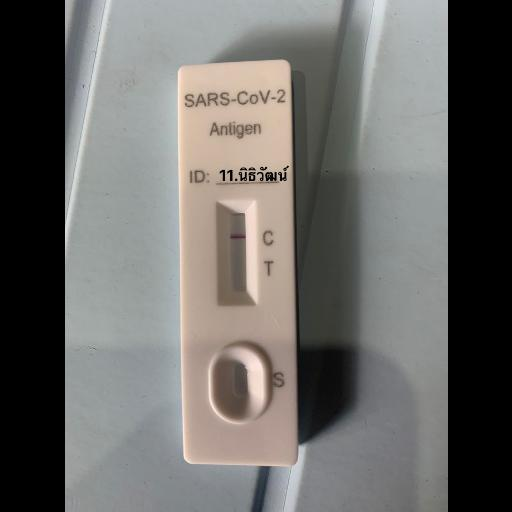Neg: (176, 64, 296, 466)
